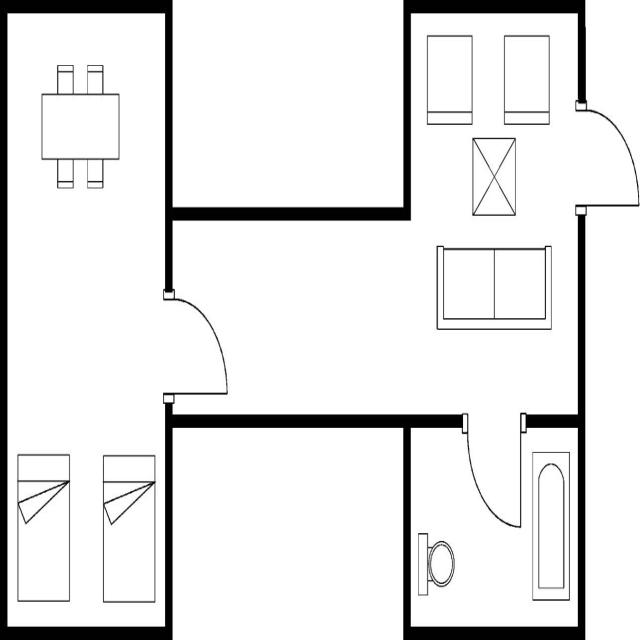bed: (100, 447, 158, 609), (14, 448, 72, 608)
coffee_table: (469, 130, 518, 221)
dining_table: (37, 57, 123, 194)
large_sink: (415, 528, 456, 602)
large_sofa: (431, 238, 555, 335)
small_sofa: (499, 30, 554, 130), (424, 30, 475, 130)
tub: (527, 444, 573, 602)
